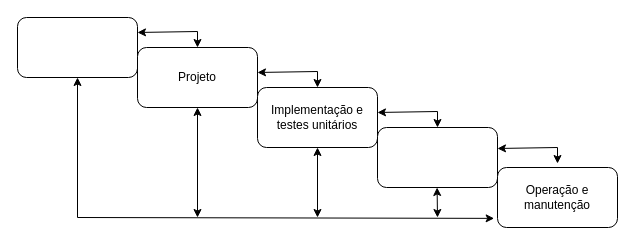
Image size: 635x245. Some labels were removed from this diagram. Here are the shapes that lost their labels. From the top down, the centre of each, then its label:
(x=77, y=47): Análise e especificação de requisitos
(x=437, y=157): Integração e testes dos sistemas
